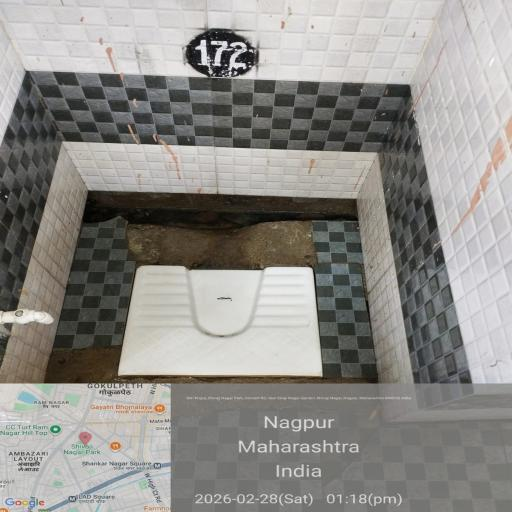clean_floor: (19, 4, 467, 246)
clean_urinal: (86, 236, 376, 404)
